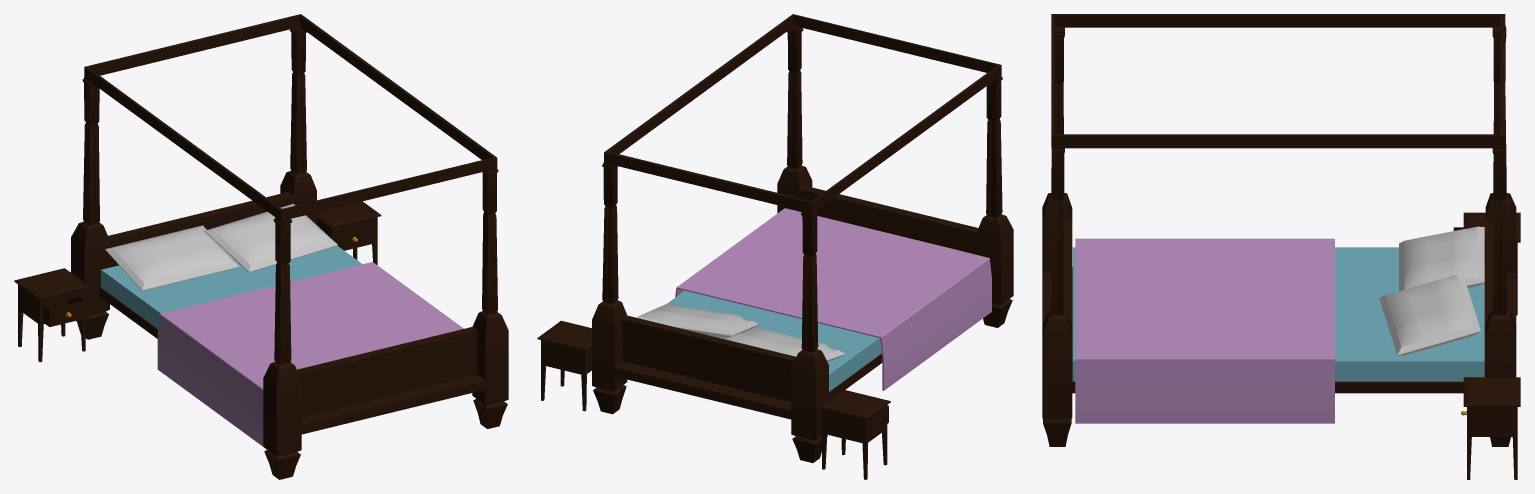
File: Bed with Side Tables.FBX
3 views of the same model, side by side, from view 1: azimuth 30°, elevation 25°; view 2: azimuth 150°, elevation 25°; view 3: azimuth 270°, elevation 25° (orthographic). The views are drawn at different scales.
Parts seen in each view (by area): view 1: Bedpost, Bedside Table, Bedside Table Close; view 2: Bedpost, Bedside Table, Bedside Table Close; view 3: Bedpost, Bedside Table Close, Bedside Table.
Part boxes in pixels (box(x1,y1,x2,y2)): Bedpost: box(71, 14, 508, 479); Bedside Table: box(14, 268, 89, 362); Bedside Table Close: box(317, 201, 381, 264); Bedpost: box(592, 14, 1013, 462); Bedside Table: box(818, 389, 890, 479); Bedside Table Close: box(537, 320, 591, 411); Bedpost: box(1042, 14, 1516, 446); Bedside Table Close: box(1461, 377, 1520, 479); Bedside Table: box(1453, 212, 1520, 315).
Size of the model in its own units: 7.21 by 5.4 by 7.55.
